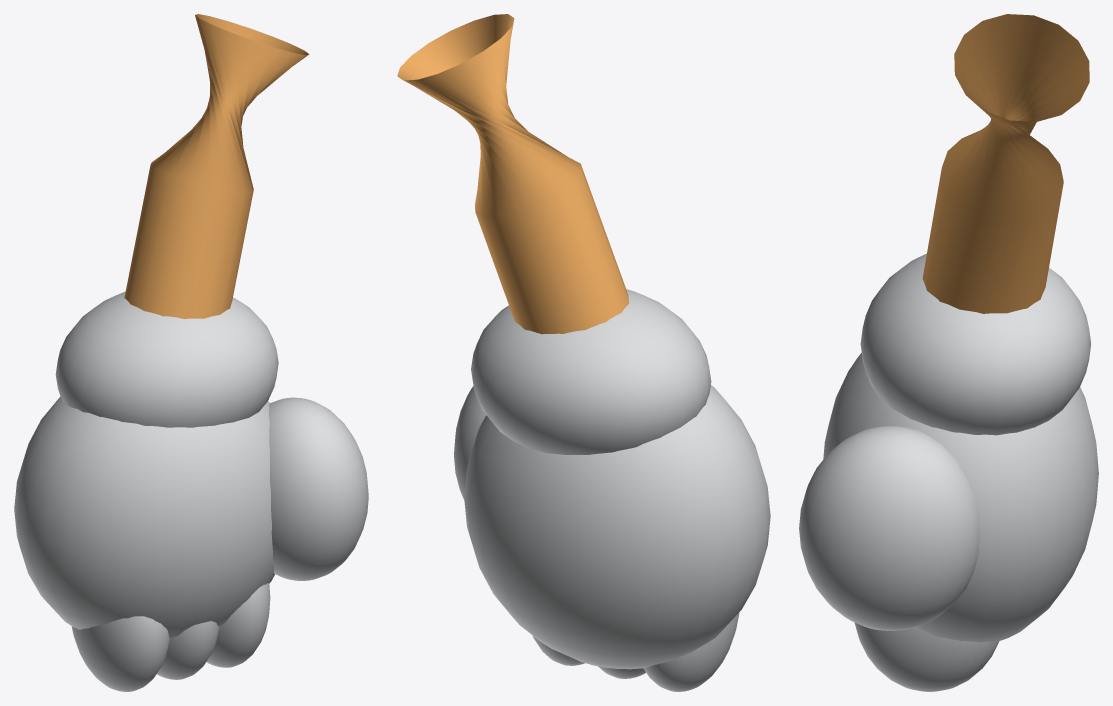
The model's file is sonic-arm-l.obj.
The picture shows the model from 3 angles, left to right: view 1: azimuth 30°, elevation 25°; view 2: azimuth 150°, elevation 25°; view 3: azimuth 270°, elevation 25°; orthographic projection. The views are drawn at different scales.
Parts seen in each view (by area): view 1: glove, arm; view 2: glove, arm; view 3: glove, arm.
Part boxes in pixels (left/top/right/bottom): glove: left=14, top=396, right=368, bottom=691; arm: left=55, top=14, right=309, bottom=427; glove: left=454, top=385, right=770, bottom=691; arm: left=397, top=14, right=711, bottom=454; glove: left=799, top=353, right=1098, bottom=691; arm: left=860, top=14, right=1091, bottom=435.
Bounding box in the file's own units: 0.5101 × 0.9912 × 0.39.
